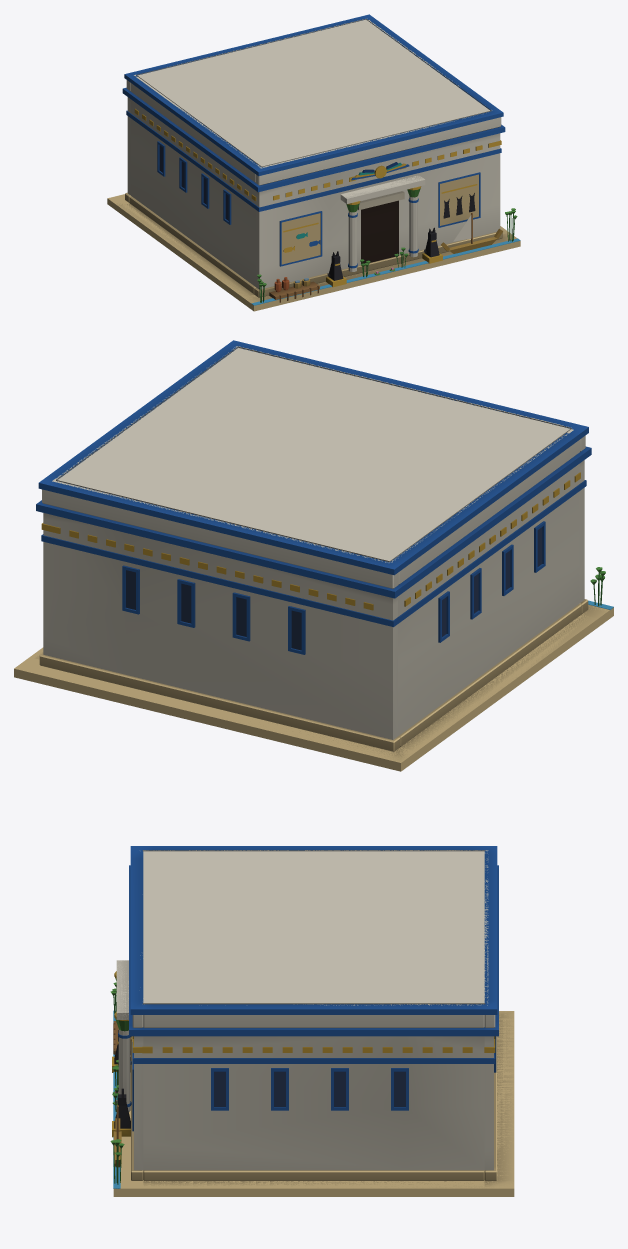
Rendered from EgyptianCatFloor.fbx.
The picture shows the model from 3 angles, top to bottom: view 1: azimuth 30°, elevation 25°; view 2: azimuth 150°, elevation 25°; view 3: azimuth 270°, elevation 25°; orthographic projection. The views are drawn at different scales.
Parts seen in each view (by area): view 1: BS_F_Rings, BS_S_All, BS_F_Smooth, BS_F_Quiet, BS_F_Props, BS_F_Glass; view 2: BS_F_Rings, BS_S_All, BS_F_Smooth, BS_F_Quiet, BS_F_Glass; view 3: BS_S_All, BS_F_Rings, BS_F_Smooth, BS_F_Quiet, BS_F_Glass, BS_F_Props.
Boxes of the visible parts, box(x1,y1,x2,y2) form: BS_F_Rings: box(123, 14, 504, 296); BS_S_All: box(107, 18, 520, 311); BS_F_Smooth: box(122, 74, 514, 302); BS_F_Quiet: box(115, 192, 517, 303); BS_F_Props: box(257, 188, 517, 287); BS_F_Glass: box(159, 145, 520, 305); BS_F_Rings: box(36, 340, 590, 739); BS_S_All: box(14, 346, 613, 771); BS_F_Smooth: box(36, 427, 602, 751); BS_F_Quiet: box(34, 599, 608, 762); BS_F_Glass: box(126, 527, 613, 650); BS_S_All: box(113, 850, 514, 1196); BS_F_Rings: box(113, 846, 498, 1170); BS_F_Smooth: box(112, 971, 498, 1184); BS_F_Quiet: box(131, 1011, 513, 1188); BS_F_Glass: box(113, 1010, 405, 1188); BS_F_Props: box(110, 977, 131, 1167).
Bounding box in the file's own units: 60 × 20 × 60.
